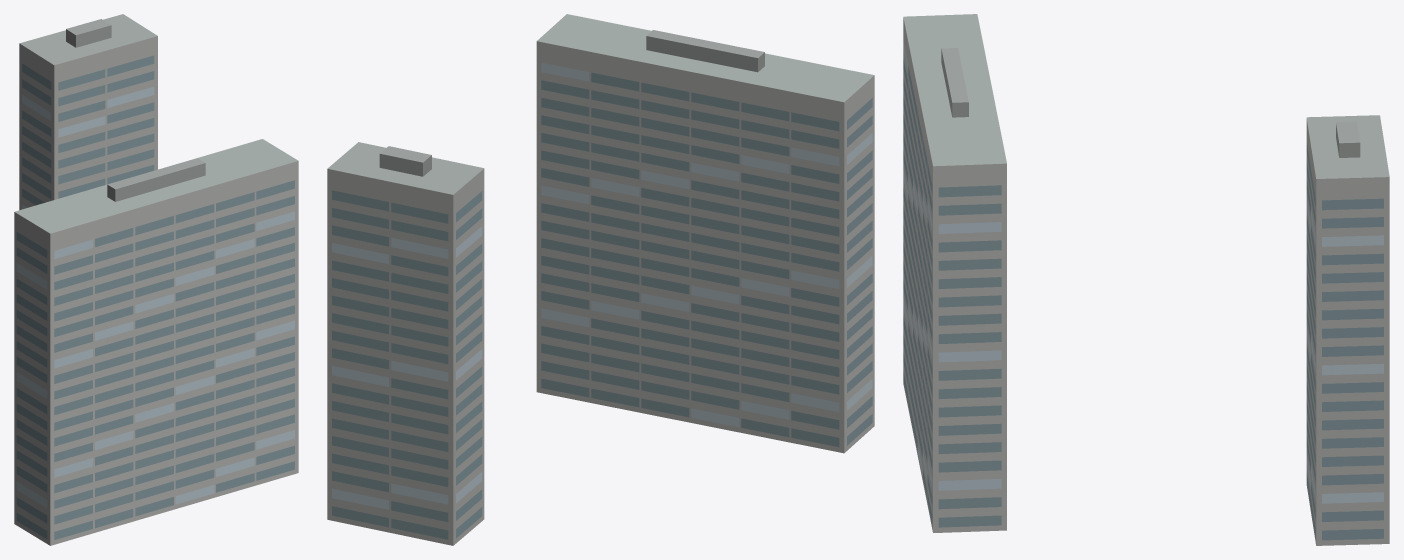
The model's file is apt-a13980903.glb.
The picture shows the model from 3 angles, left to right: view 1: azimuth 30°, elevation 25°; view 2: azimuth 150°, elevation 25°; view 3: azimuth 270°, elevation 25°; orthographic projection. The views are drawn at different scales.
Visible parts, largest first — view 1: apt-a13980903; view 2: apt-a13980903; view 3: apt-a13980903.
Part boxes in pixels (bbox=[...]): apt-a13980903: bbox=[14, 14, 298, 545]; apt-a13980903: bbox=[327, 14, 874, 545]; apt-a13980903: bbox=[903, 14, 1389, 545].
Size of the model in its own units: 57.52 by 62 by 71.61.
